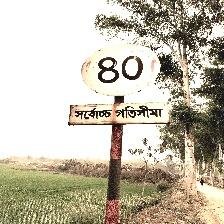Speed-limit: (71, 43, 171, 127)
